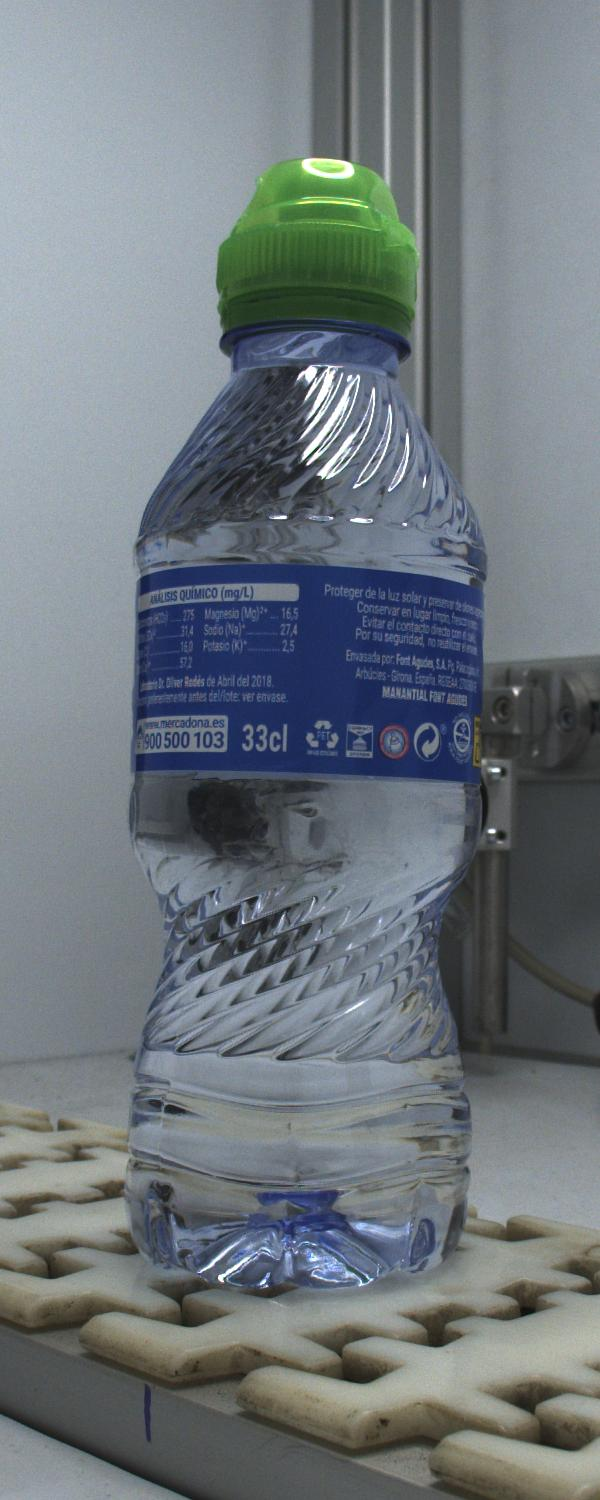bottle: (127, 158, 485, 1286)
cap: (217, 157, 417, 357)
